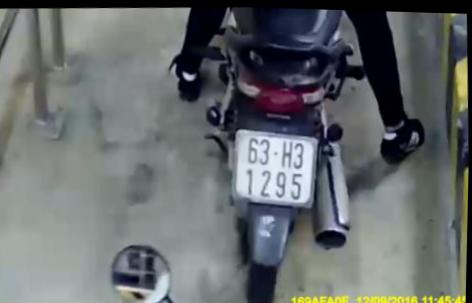LP: (230, 121, 322, 213)
